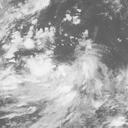cyclone: (26, 39, 95, 104)
